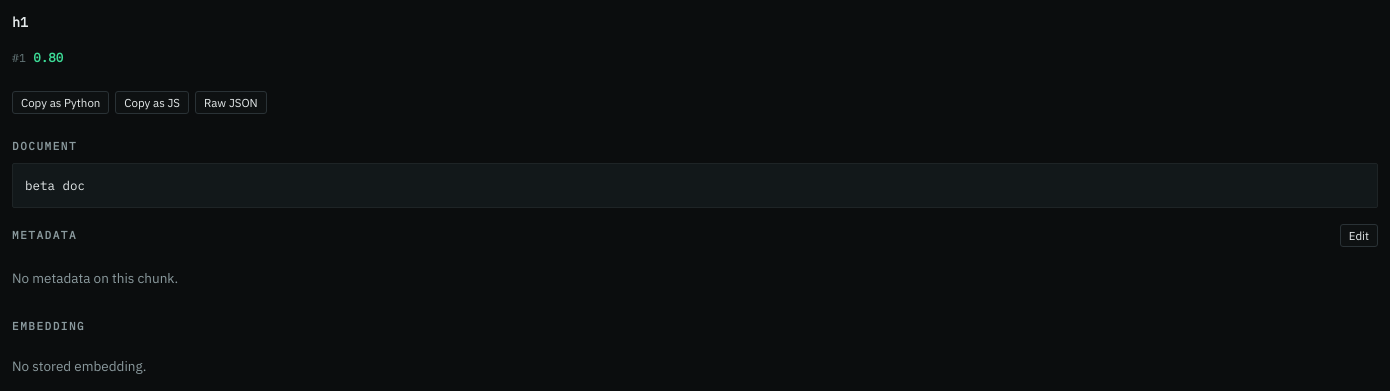
raw JSON of a hit shows the query hit payload without a fetch of its own
Click the button "Raw JSON": (231, 102) left=195, top=91, right=267, bottom=114
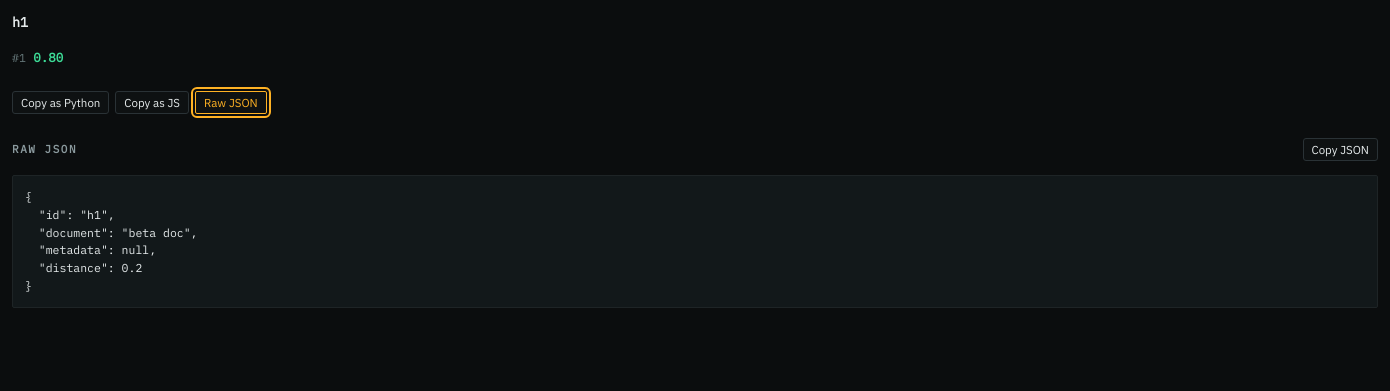
Expected: the text with test id "inspector-raw" shows "\"distance\": 0.2", left=25, top=189, right=198, bottom=293
